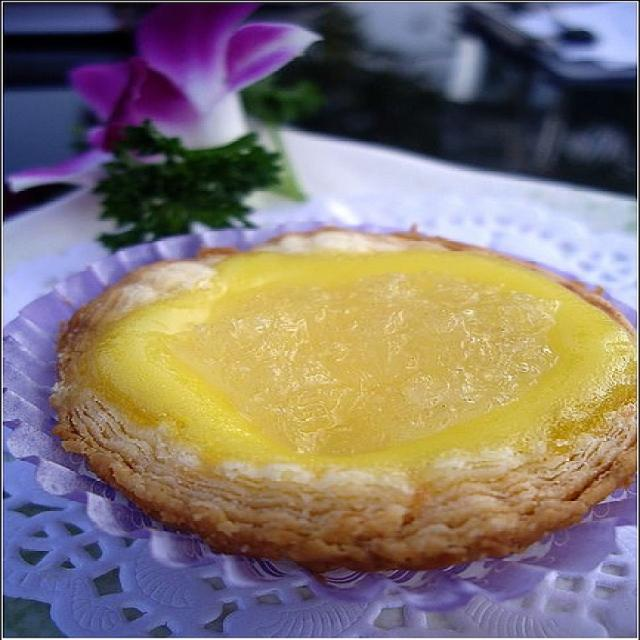炸货点心: (30, 162, 630, 610)
蛋糕甜品: (30, 162, 630, 610)
